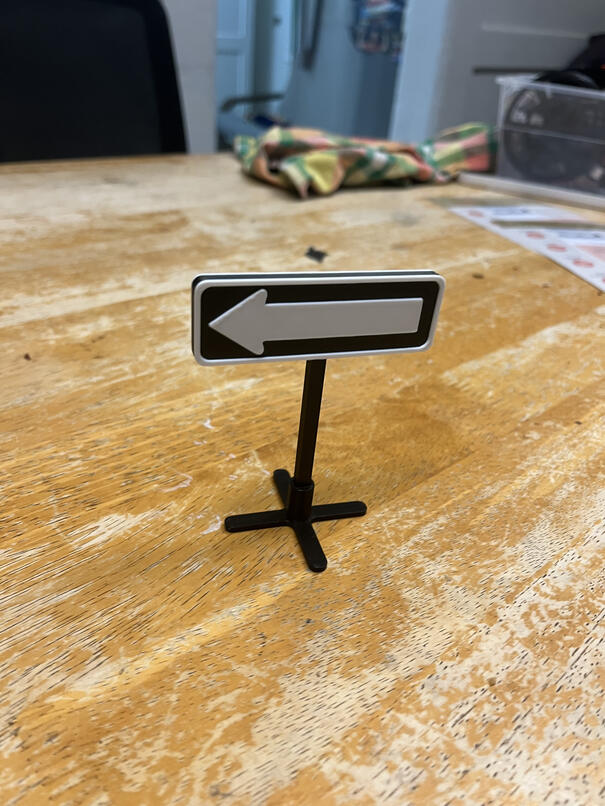sign_oneway_left: (190, 275, 441, 355)
